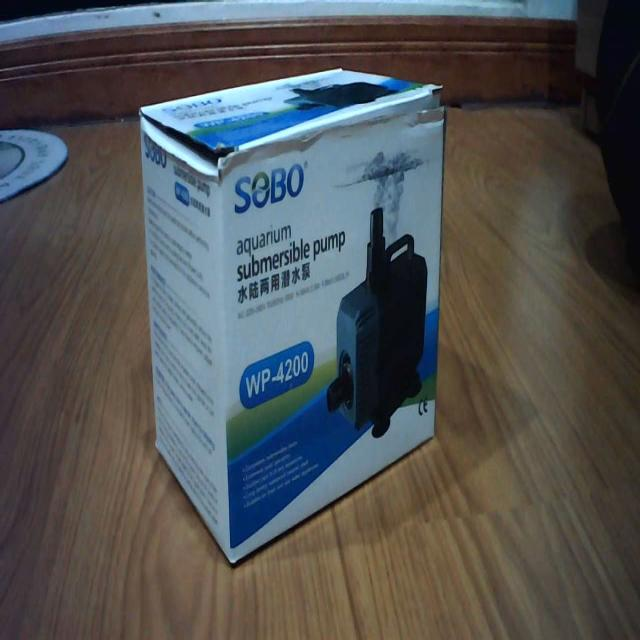SOBO_WP_4200: (128, 46, 452, 577)
